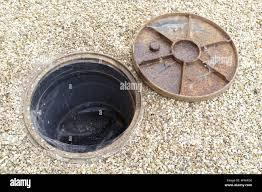open manhole-not overflowing-: (24, 17, 241, 154)
